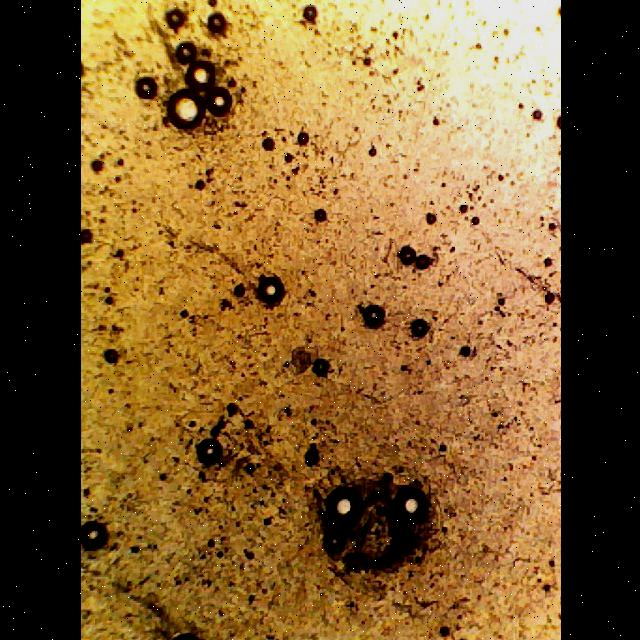microbeads: (324, 486, 366, 532), (388, 484, 428, 526), (166, 91, 204, 132), (80, 518, 110, 552), (200, 10, 230, 36), (162, 2, 186, 34), (203, 90, 230, 118), (173, 41, 199, 65), (258, 276, 282, 302), (197, 439, 221, 465), (362, 305, 383, 329), (404, 320, 428, 340), (137, 78, 157, 100), (398, 246, 414, 264), (303, 3, 319, 19)
